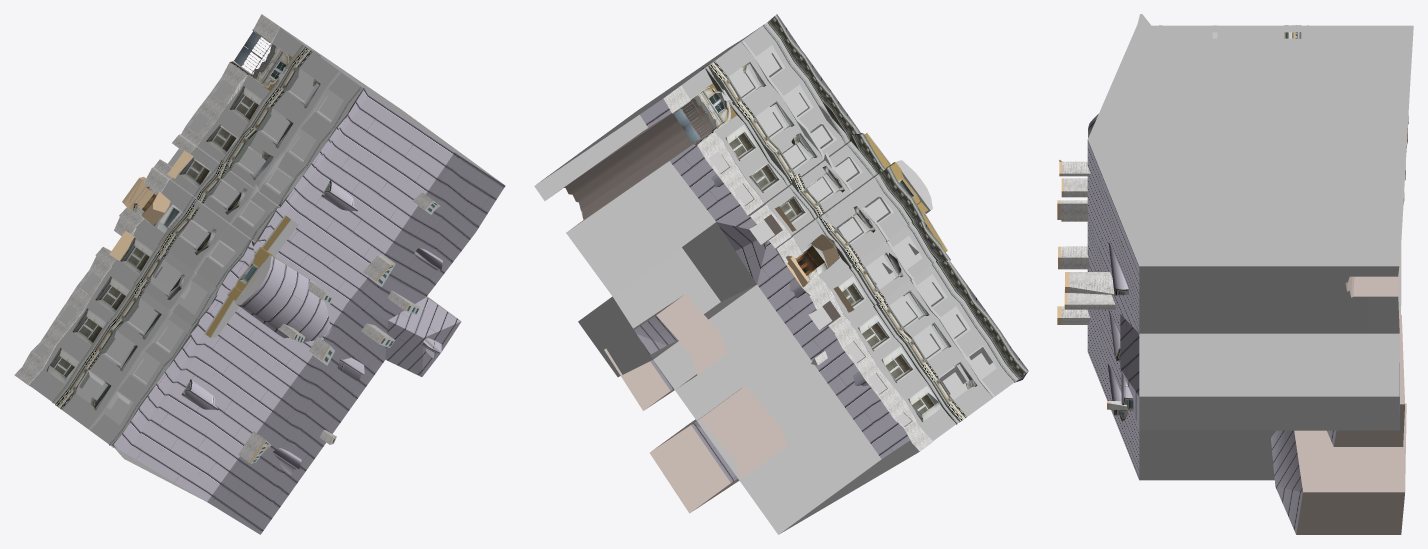
Rendered from Prn9_4-origo.obj.
The picture shows the model from 3 angles, left to right: view 1: azimuth 30°, elevation 25°; view 2: azimuth 150°, elevation 25°; view 3: azimuth 270°, elevation 25°; orthographic projection. The views are drawn at different scales.
Visible parts, largest first — view 1: Parnu_mnt_9; view 2: Parnu_mnt_9; view 3: Parnu_mnt_9.
Boxes of the visible parts, x1,y1,x2,y2 form: Parnu_mnt_9: [14, 14, 505, 534]; Parnu_mnt_9: [534, 14, 1028, 534]; Parnu_mnt_9: [1057, 14, 1413, 534].
Size of the model in its own units: 31.25 by 32 by 19.49.
